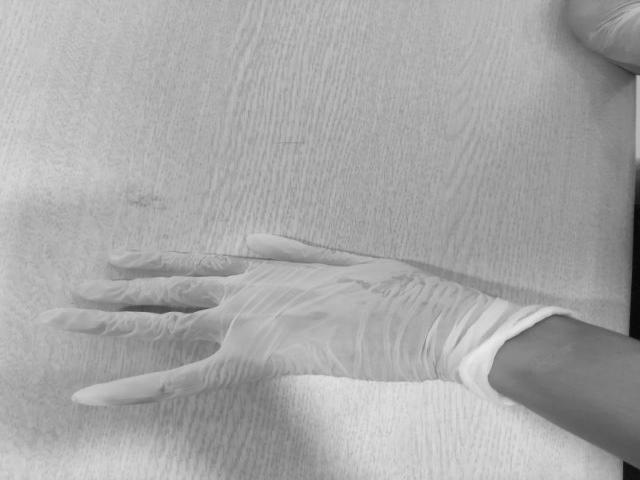gloved: (69, 236, 456, 406)
